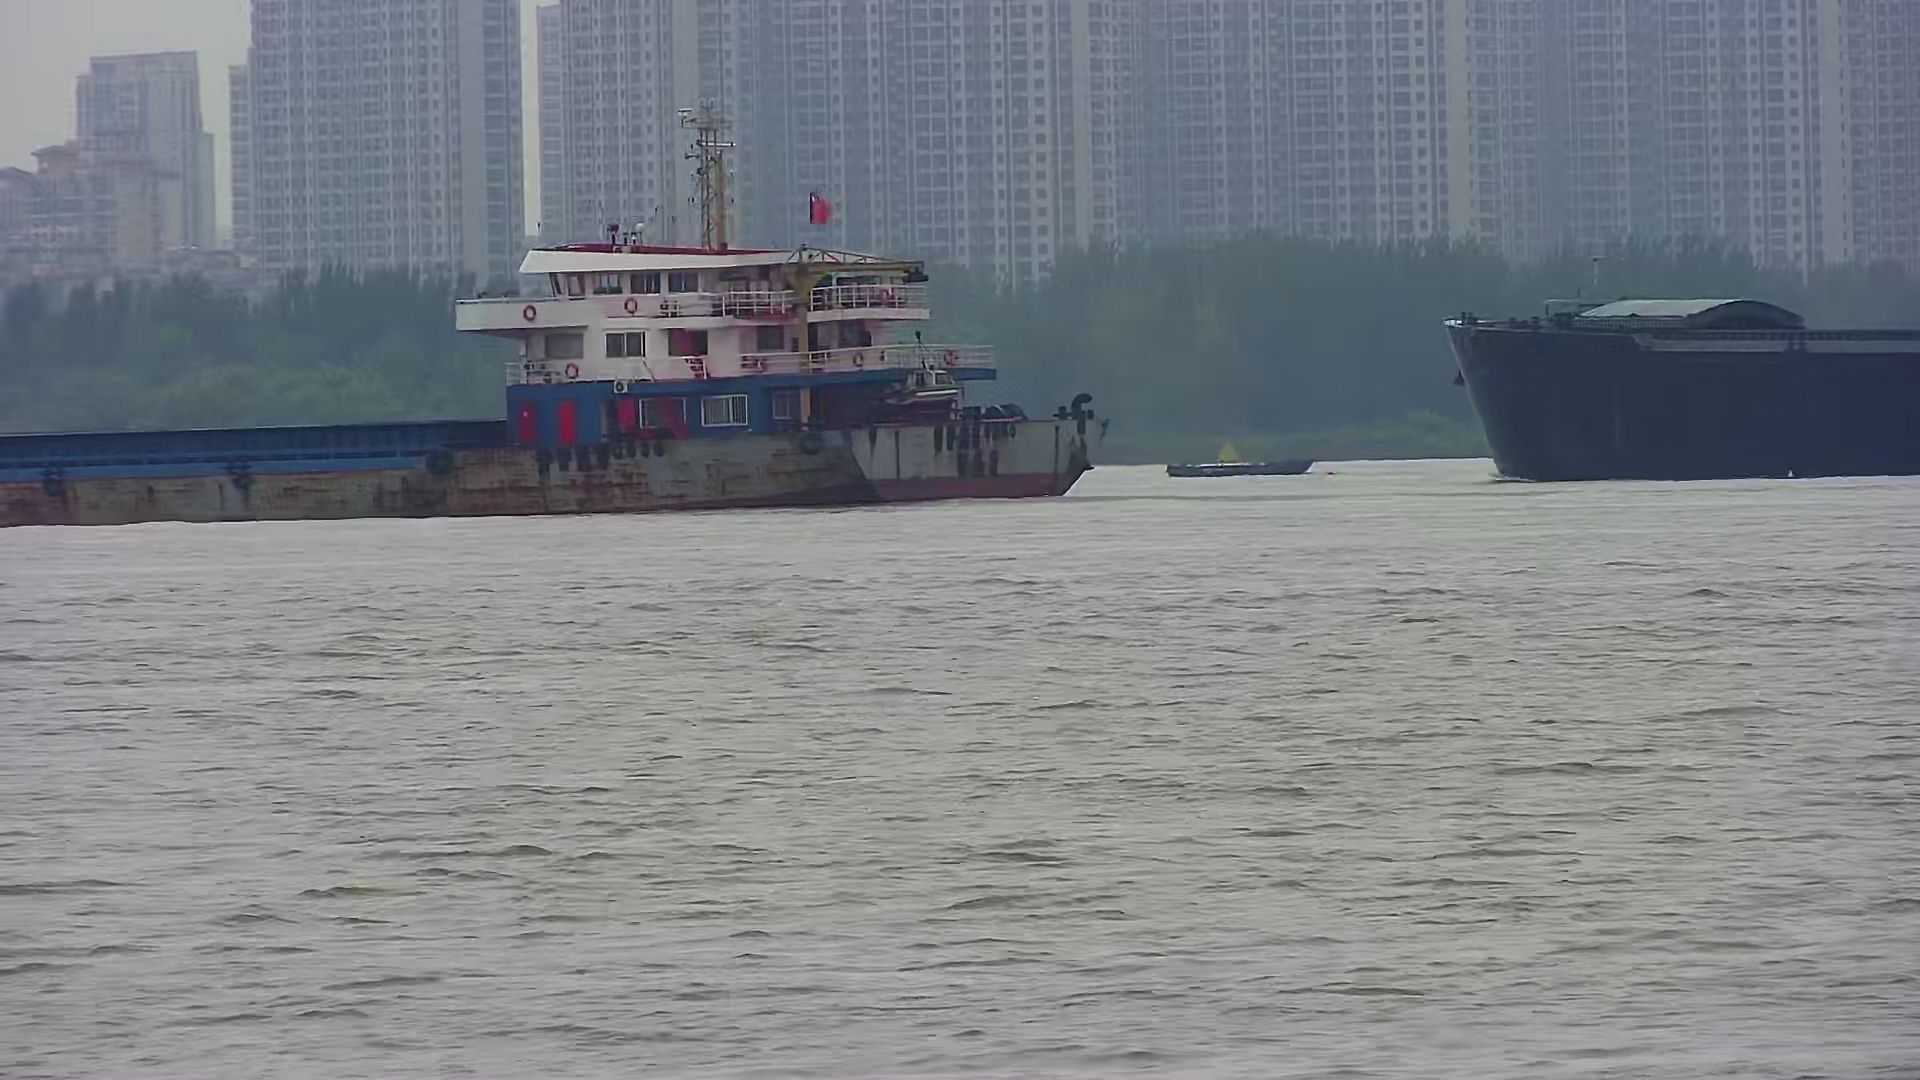boat: (1167, 436, 1313, 476)
ship: (1, 185, 1102, 527), (1447, 287, 1920, 487)
